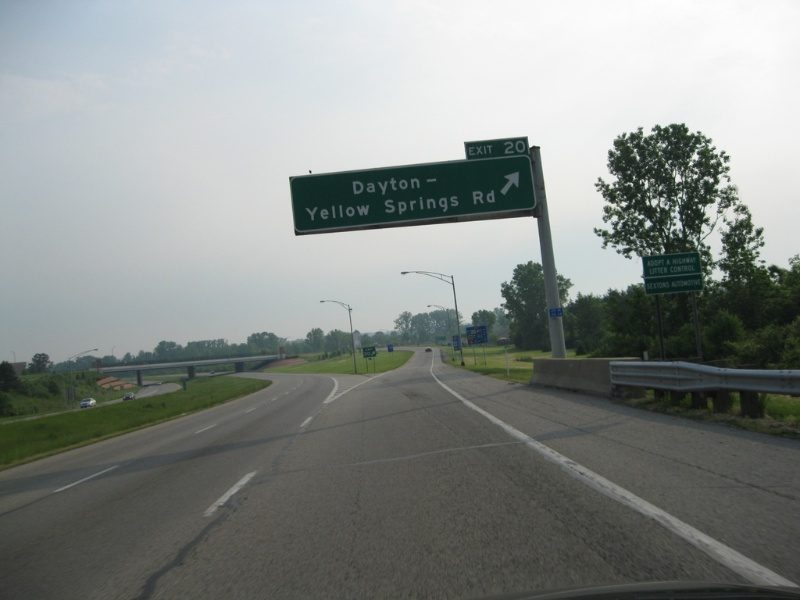right_direction: (497, 169, 523, 196)
